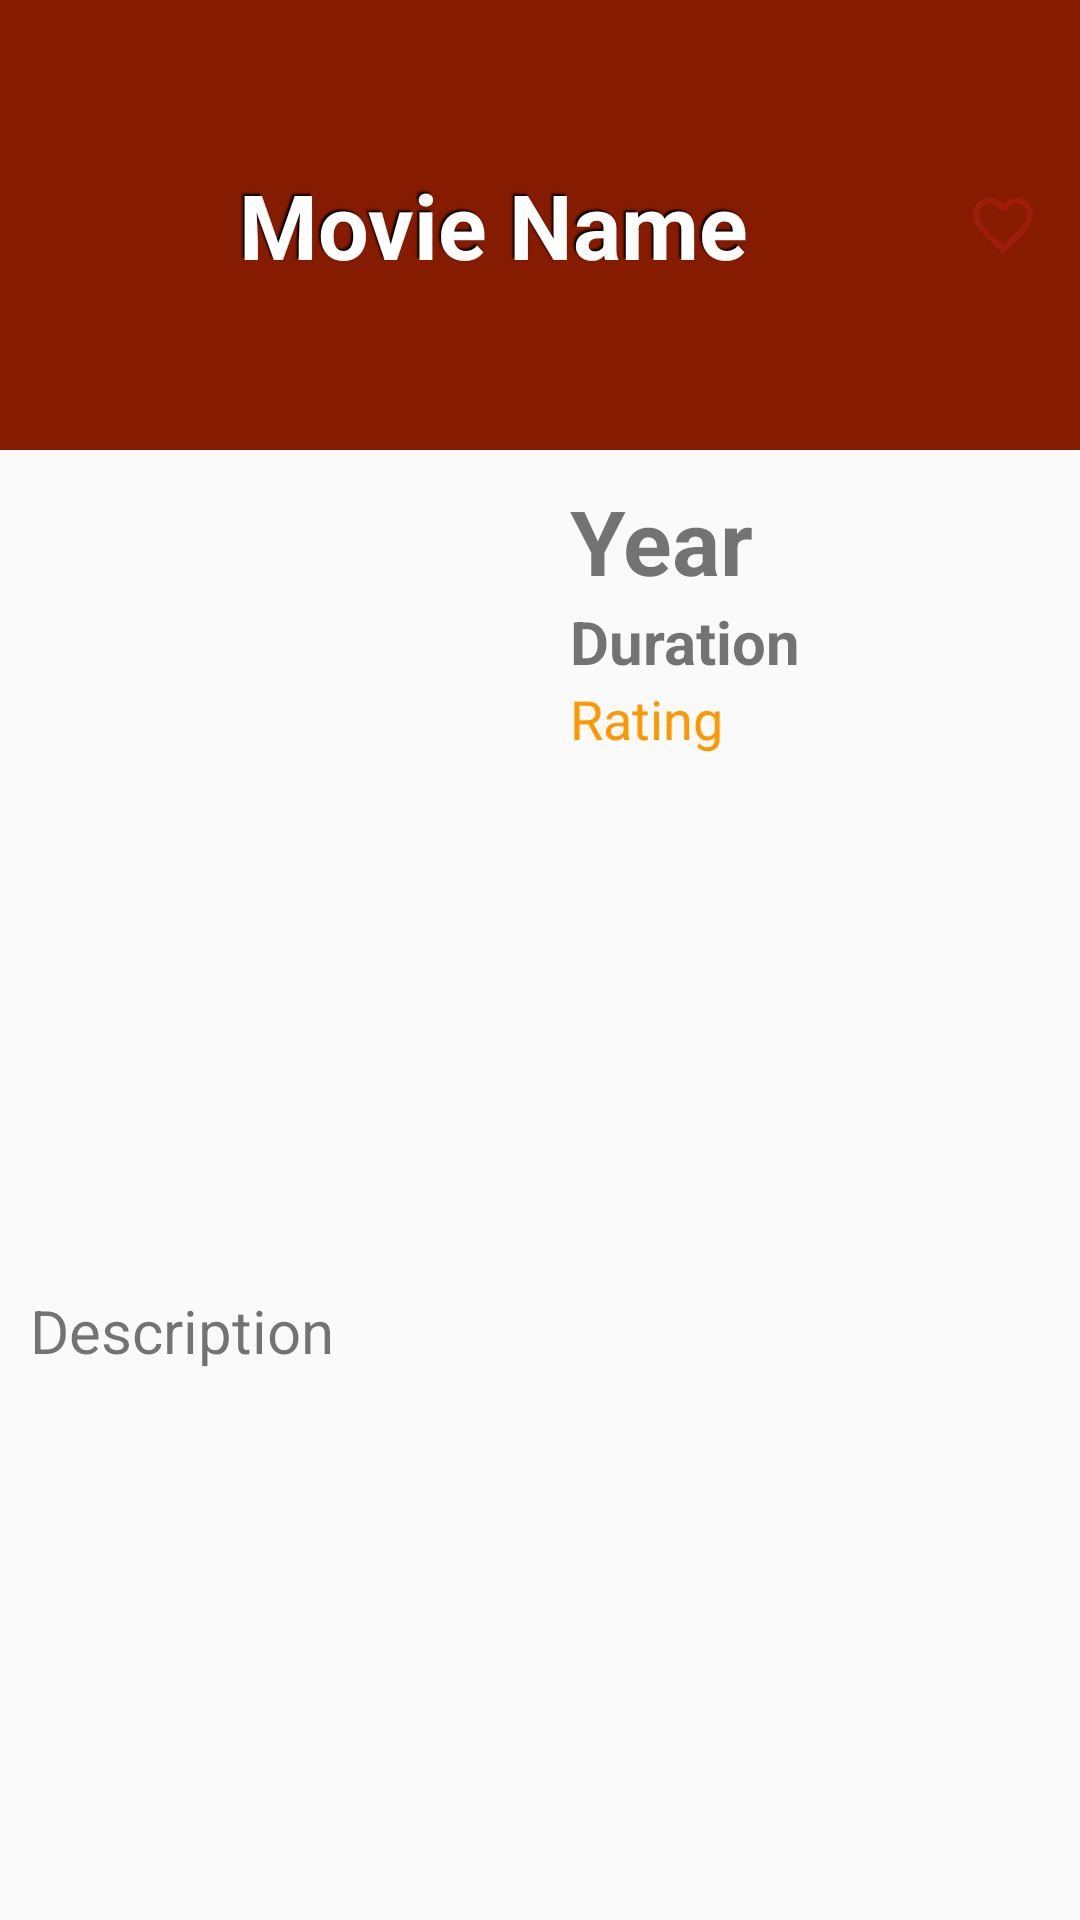

Where to tap for icons on this 1080 × 1920 app screen, as (x,y):
favourite: (1003,225)
